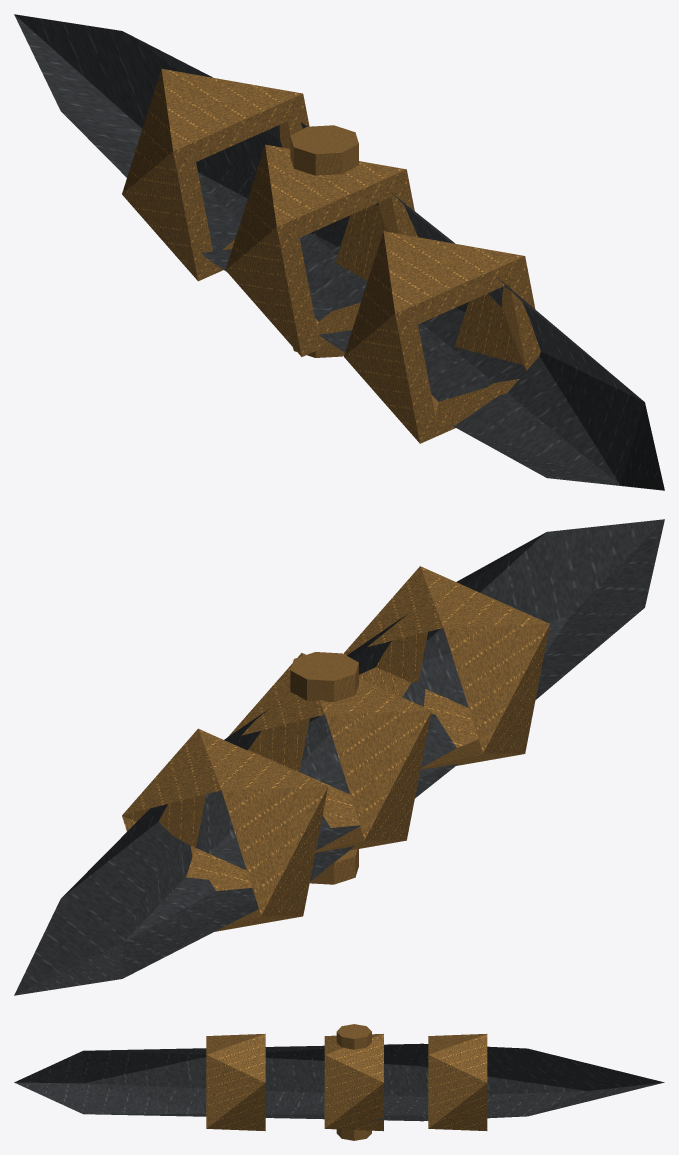
The model's file is chronal-compact-dart-ready-lod2.glb.
3 renders of one model, top to bottom at view 1: azimuth 30°, elevation 25°; view 2: azimuth 150°, elevation 25°; view 3: azimuth 270°, elevation 25°, orthographic. The views are drawn at different scales.
Parts seen in each view (by area): view 1: Compact double-ended dart, Dart brass locking collar, Dart brass locking collar.001, Dart brass locking collar.002, Dart collar stud.001; view 2: Compact double-ended dart, Dart brass locking collar, Dart brass locking collar.002, Dart brass locking collar.001, Dart collar stud.001, Dart collar stud; view 3: Compact double-ended dart, Dart brass locking collar, Dart brass locking collar.002, Dart brass locking collar.001, Dart collar stud.001, Dart collar stud.
Part boxes in pixels (x1,y1,x2,y2): Compact double-ended dart: (14,14,664,490); Dart brass locking collar: (344,231,540,443); Dart brass locking collar.001: (225,144,417,356); Dart brass locking collar.002: (122,69,309,281); Dart collar stud.001: (290,125,358,175); Compact double-ended dart: (14,519,664,995); Dart brass locking collar: (344,566,549,769); Dart brass locking collar.002: (122,728,327,931); Dart brass locking collar.001: (228,653,431,852); Dart collar stud.001: (290,652,358,702); Dart collar stud: (309,849,358,884); Compact double-ended dart: (14,1043,664,1121); Dart brass locking collar: (206,1033,265,1131); Dart brass locking collar.002: (428,1034,487,1130); Dart brass locking collar.001: (324,1033,383,1131); Dart collar stud.001: (336,1024,371,1049); Dart collar stud: (336,1129,371,1140).
Size of the model in its own units: 0.0302 by 0.038 by 0.22.
2 materials, 2 textured.
